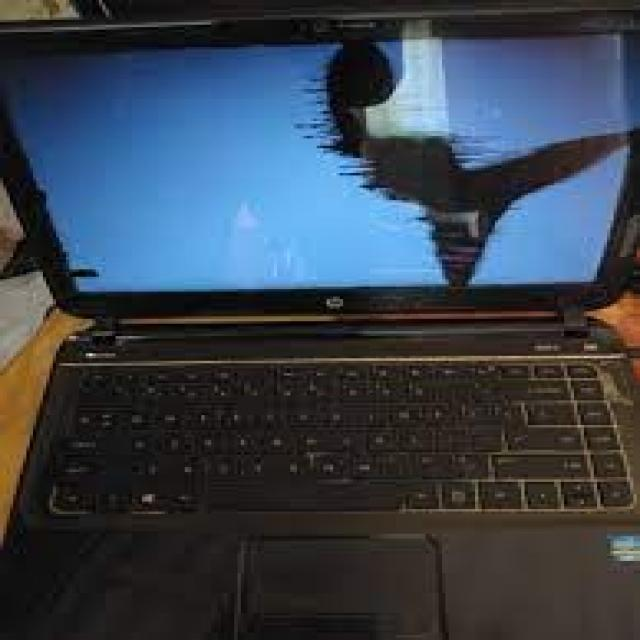Screen cracks: (286, 34, 634, 292)
